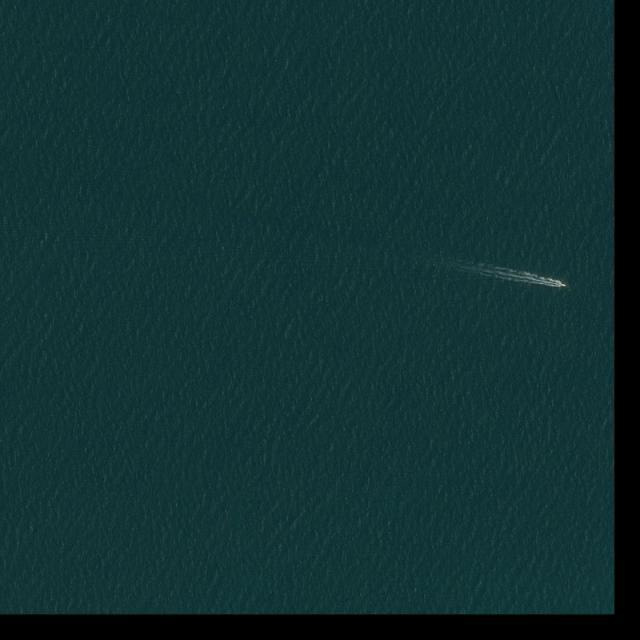ship: (561, 284, 566, 287)
